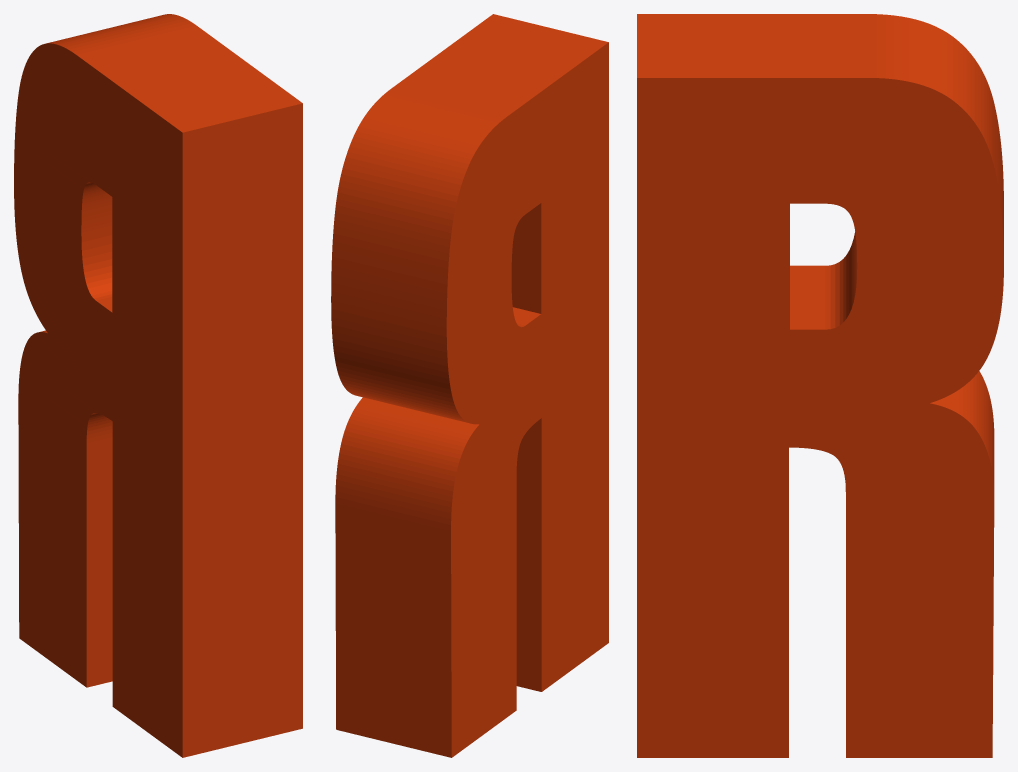
3 renders of one model, left to right at view 1: azimuth 30°, elevation 25°; view 2: azimuth 150°, elevation 25°; view 3: azimuth 270°, elevation 25°, orthographic. The views are drawn at different scales.
Visible parts, largest first — view 1: R; view 2: R; view 3: R.
Part boxes in pixels (bbox=[...]): R: bbox=[14, 14, 302, 757]; R: bbox=[331, 14, 608, 757]; R: bbox=[637, 14, 1003, 757].
Bounding box in the file's own units: 0.1 × 0.4965 × 0.2428.
